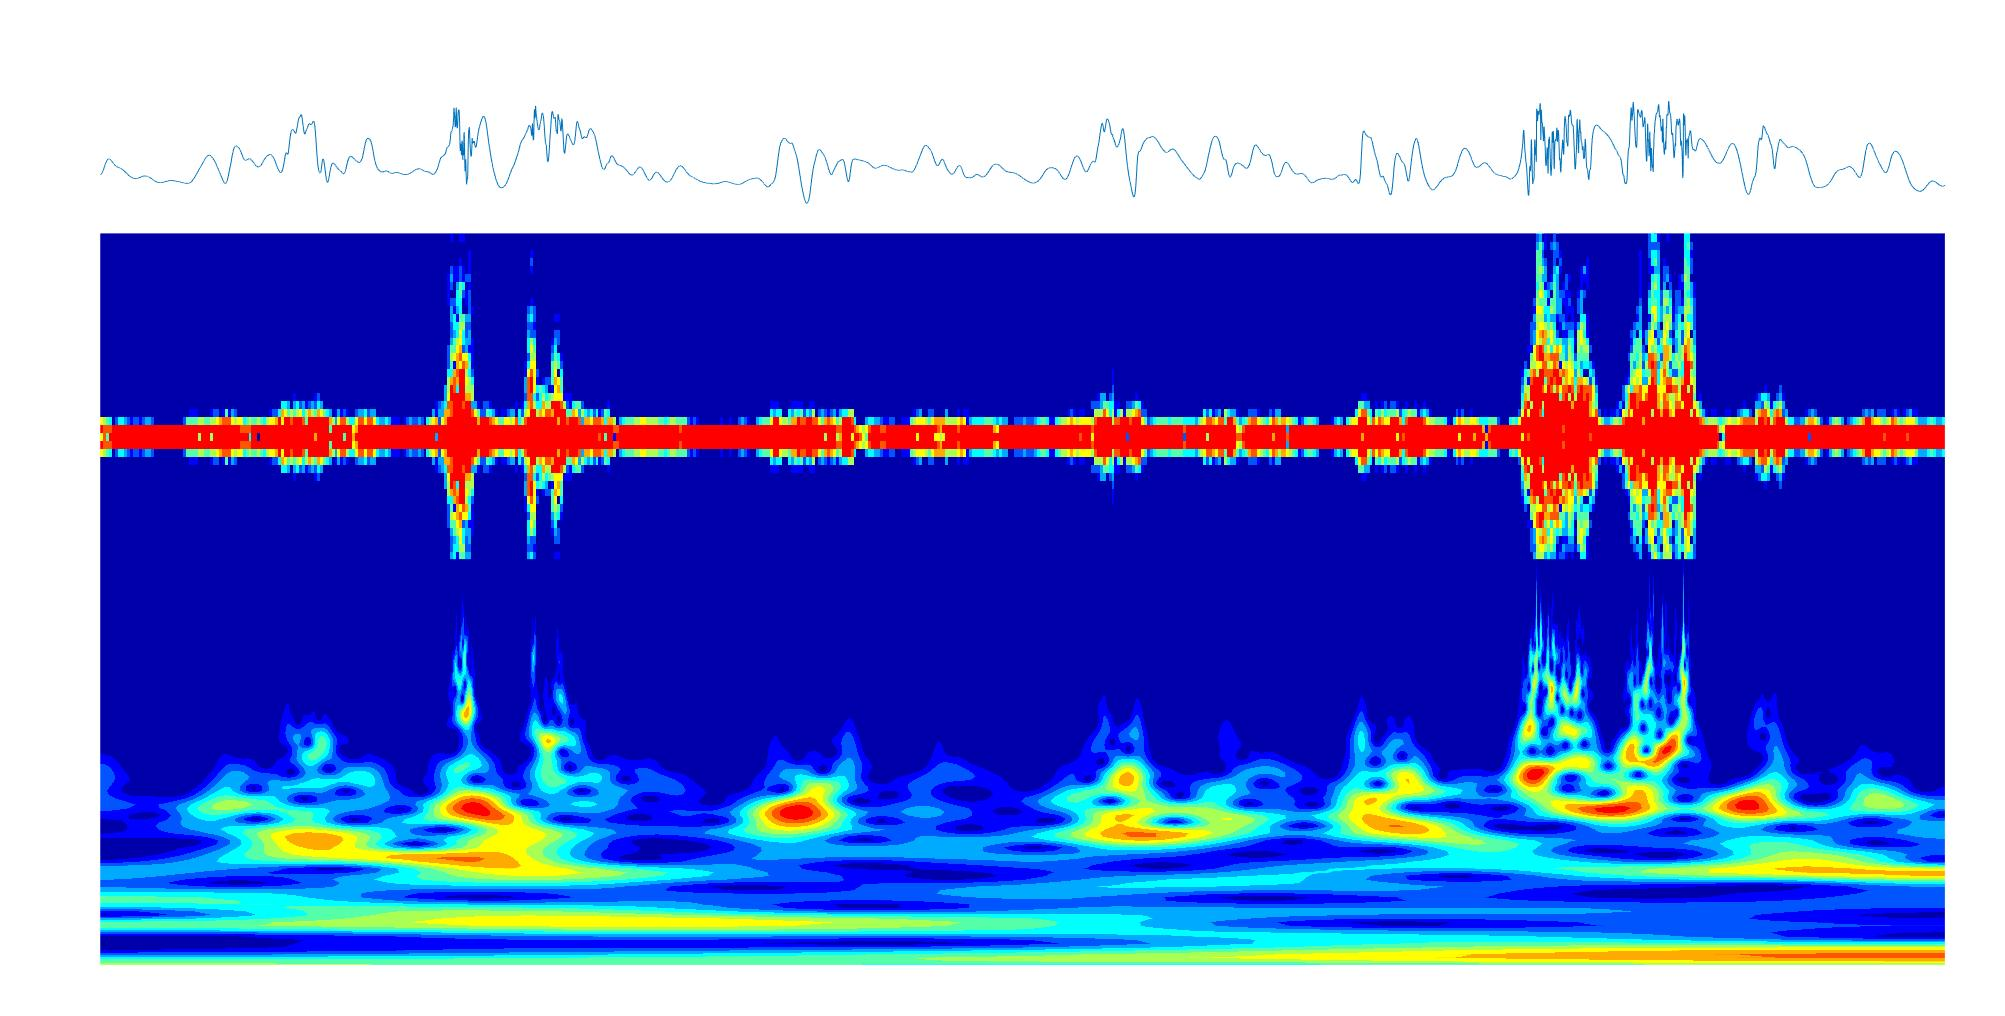TURBULENT: (1519, 231, 1600, 967), (1627, 233, 1706, 960), (515, 232, 572, 967), (434, 233, 479, 965)
